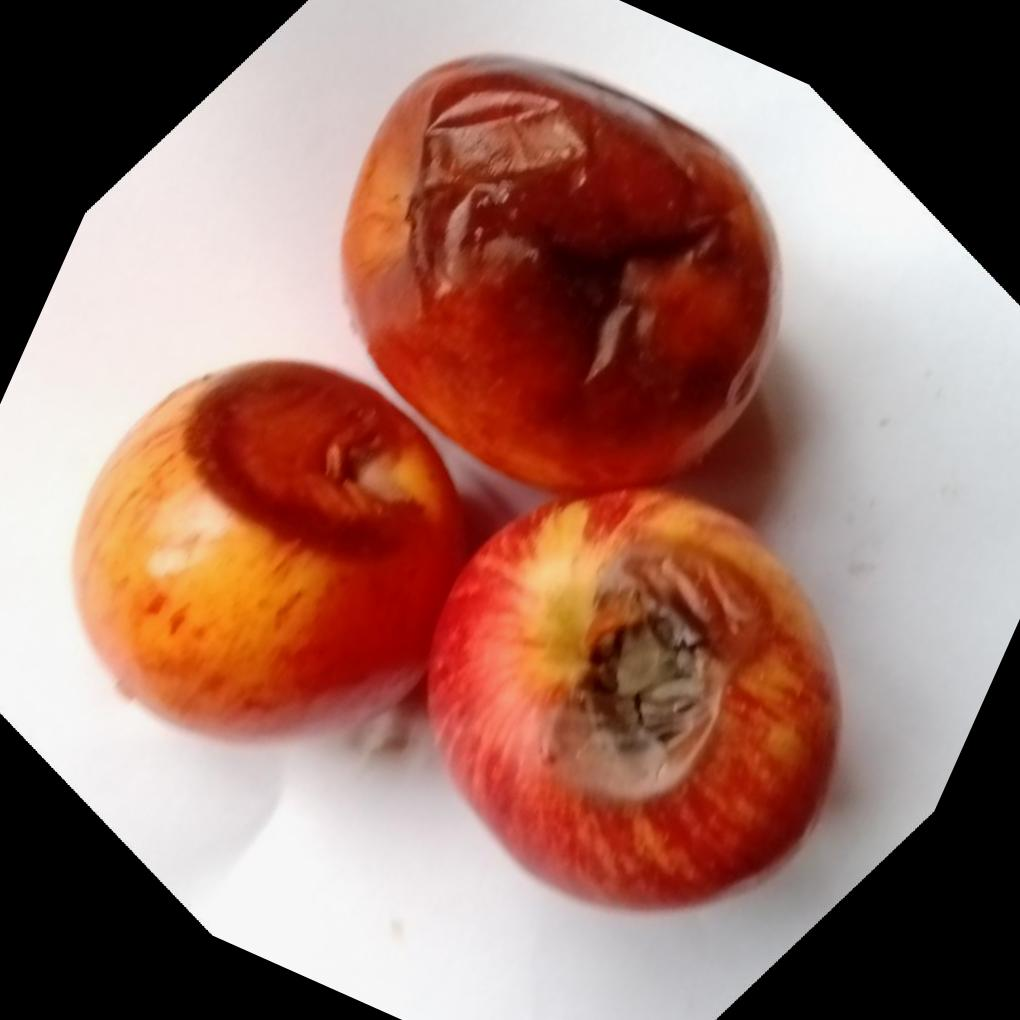FreshOrange: (87, 65, 841, 913)
